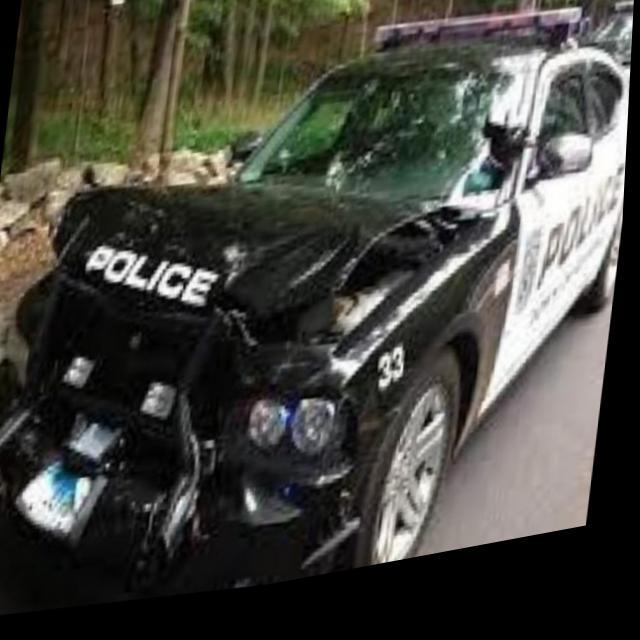dislocated part: (0, 139, 538, 604)
